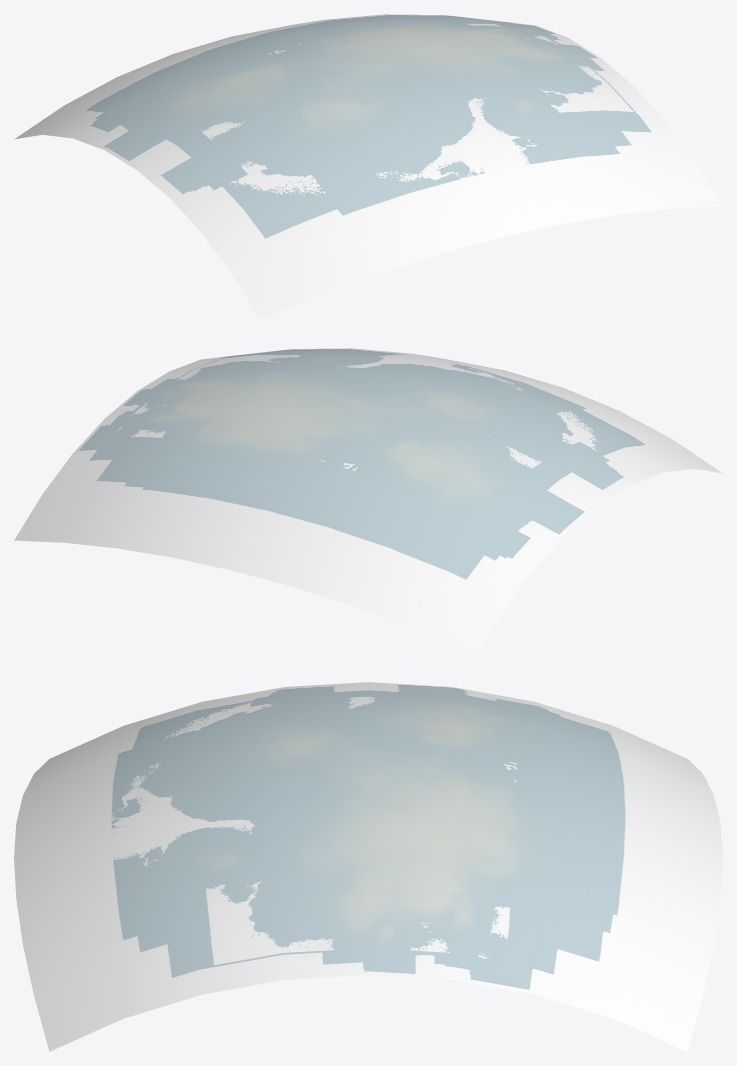
The model's file is Sce_worldmap_cloud_01.FBX.
The picture shows the model from 3 angles, top to bottom: view 1: azimuth 30°, elevation 25°; view 2: azimuth 150°, elevation 25°; view 3: azimuth 270°, elevation 25°; orthographic projection. The views are drawn at different scales.
Parts seen in each view (by area): view 1: pPlane1; view 2: pPlane1; view 3: pPlane1.
Boxes of the visible parts, box(x1,y1,x2,y2) form: pPlane1: box(14, 14, 722, 319); pPlane1: box(14, 348, 722, 653); pPlane1: box(14, 682, 722, 1051).
Bounding box in the file's own units: 313 × 66.02 × 320.
1 material, 1 textured.
